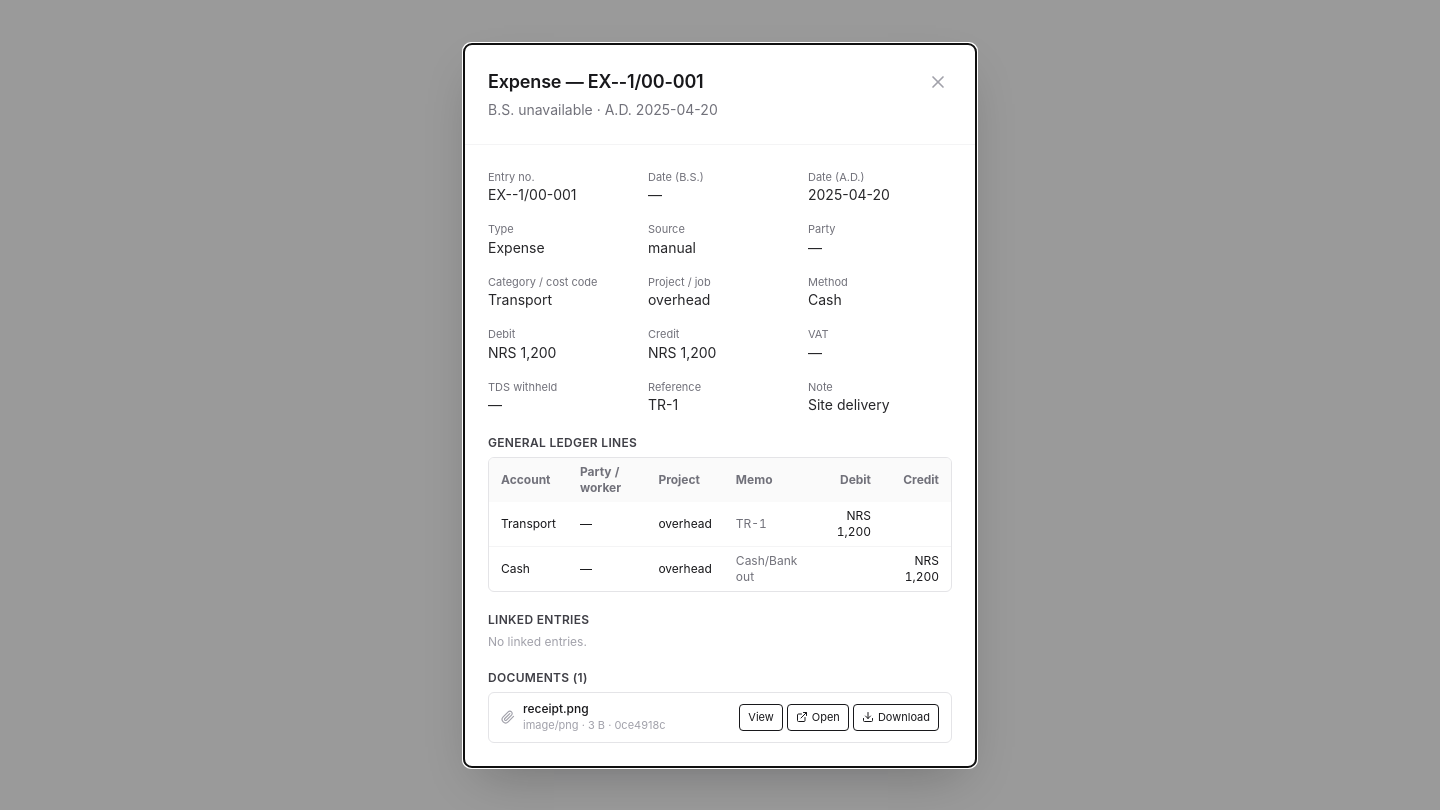
Test: transaction detail › shows every stored field and the attached document
Check: the element with test id "transaction-detail" is shown, box [488,168,952,742]
Check: the text "Transport" is shown, box [488,291,552,308]
Click the button with test id "detail-document-view" at (761, 717), box [739,704,783,730]
(page scrolled)
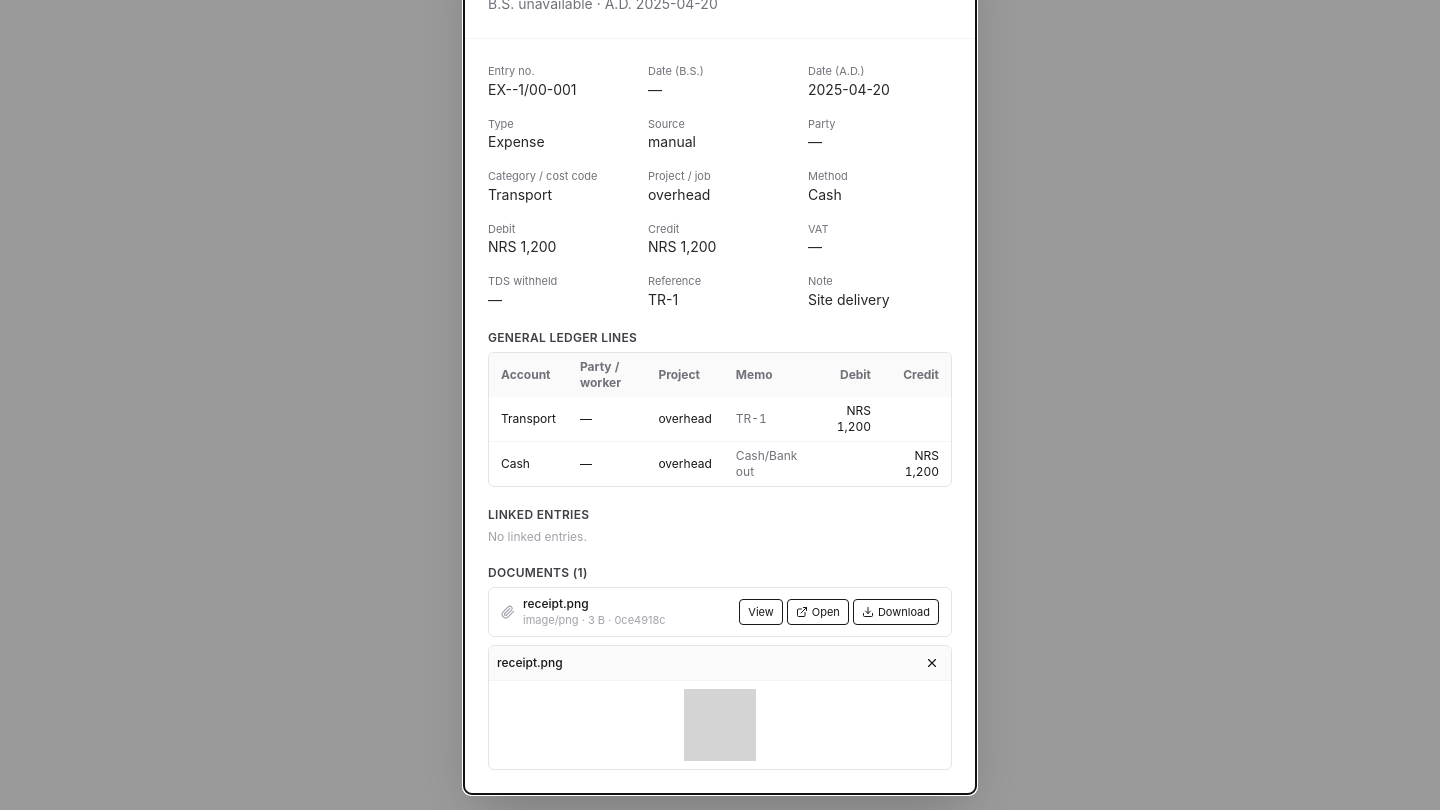
Check: the element with test id "detail-preview" is shown, box [488,645,952,770]
